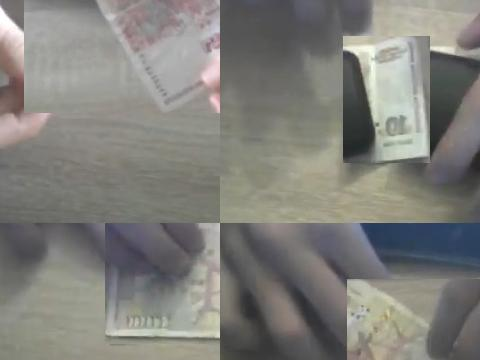10leva: (105, 223, 220, 341), (343, 36, 430, 163), (348, 279, 430, 360)
